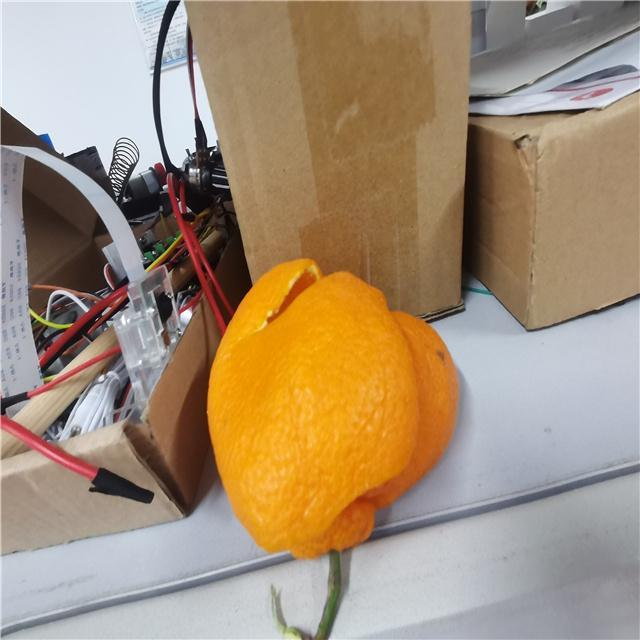orange-peel: (203, 251, 471, 558)
